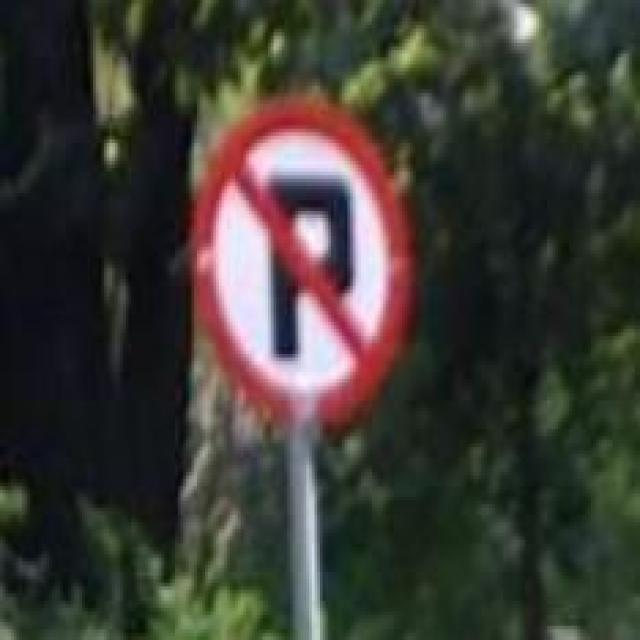traffic sign: (194, 100, 416, 436)
